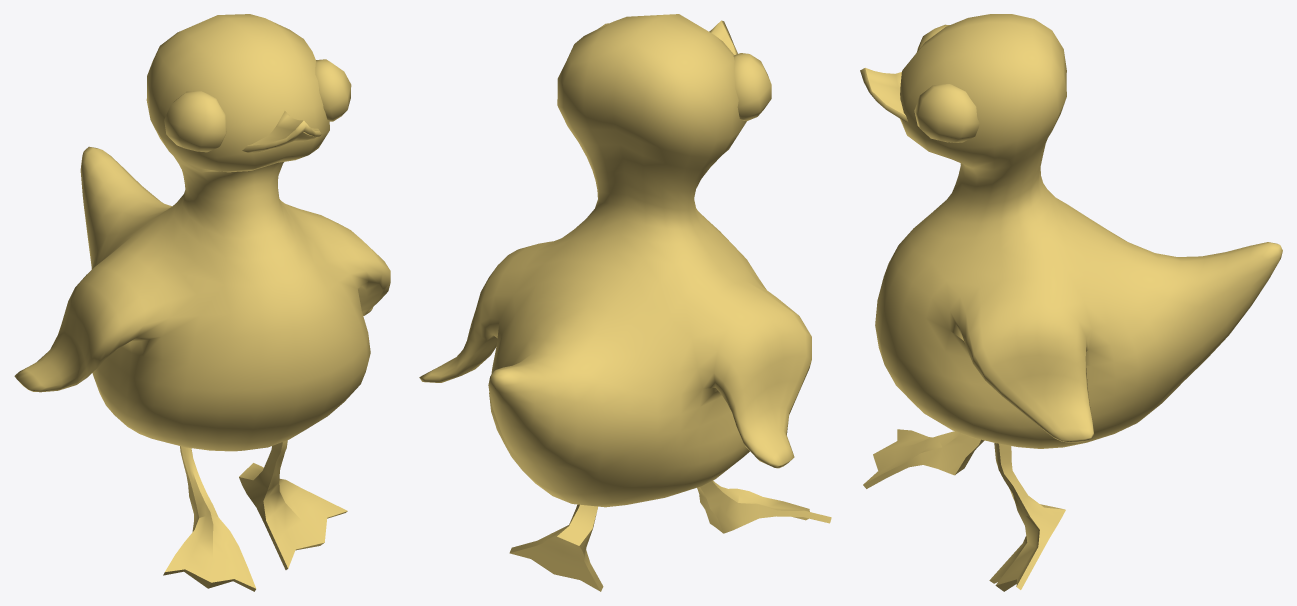
File: SM_coincoin_baby_oui.fbx
The picture shows the model from 3 angles, left to right: view 1: azimuth 30°, elevation 25°; view 2: azimuth 150°, elevation 25°; view 3: azimuth 270°, elevation 25°; orthographic projection. The views are drawn at different scales.
Parts seen in each view (by area): view 1: Cube.014; view 2: Cube.014; view 3: Cube.014.
Part boxes in pixels (bbox=[...]): Cube.014: bbox=[14, 14, 390, 591]; Cube.014: bbox=[419, 14, 831, 591]; Cube.014: bbox=[860, 14, 1282, 591].
Bounding box in the file's own units: 55.27 × 84.91 × 60.43.
